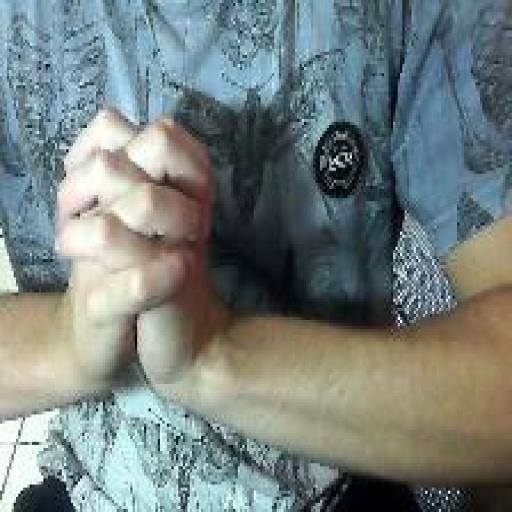Mi -snake-: (51, 105, 216, 425)
